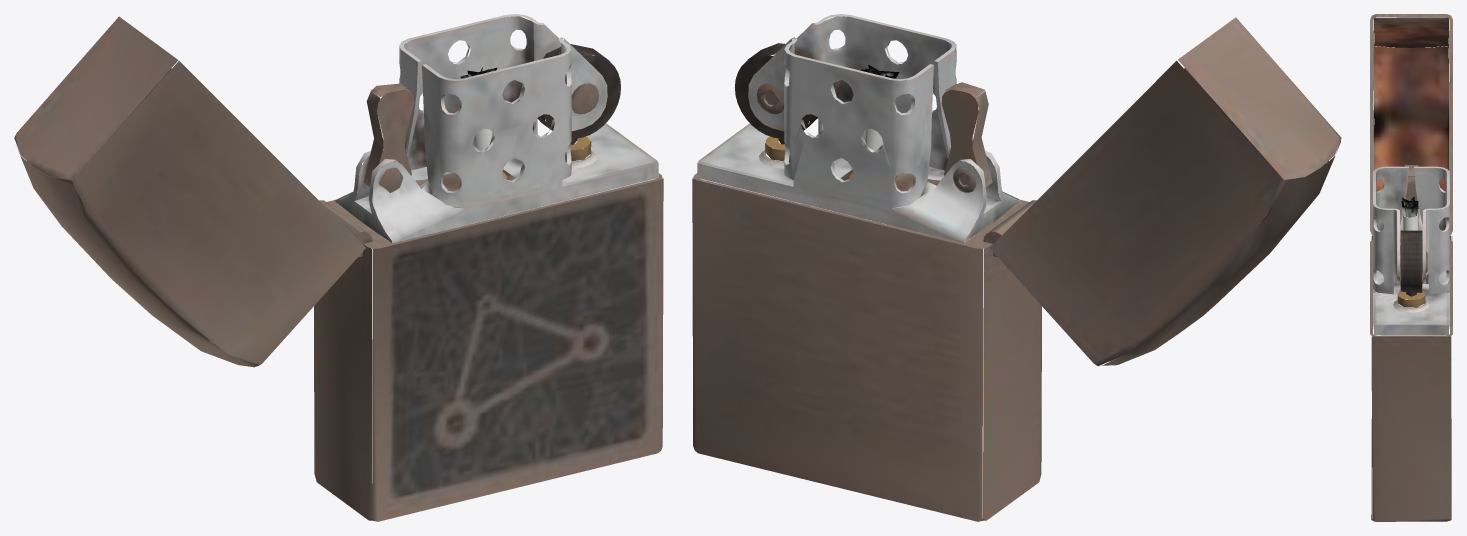
File: isqueiro.glb
The picture shows the model from 3 angles, left to right: view 1: azimuth 30°, elevation 25°; view 2: azimuth 150°, elevation 25°; view 3: azimuth 270°, elevation 25°; orthographic projection. The views are drawn at different scales.
Visible parts, largest first — view 1: Malha; view 2: Malha; view 3: Malha.
Part boxes in pixels (x1,y1,x2,y2): Malha: [14, 14, 663, 521]; Malha: [692, 14, 1341, 521]; Malha: [1370, 14, 1452, 521].
Size of the model in its own units: 0.0601 by 0.0488 by 0.0105.
Materials: 2 (2 with a texture image).
